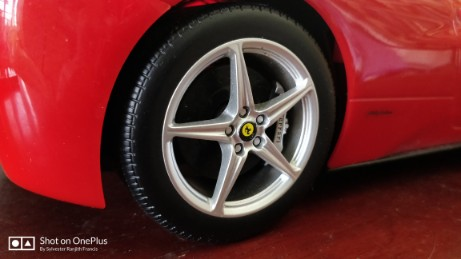aligned_wheel: (111, 1, 336, 247)
